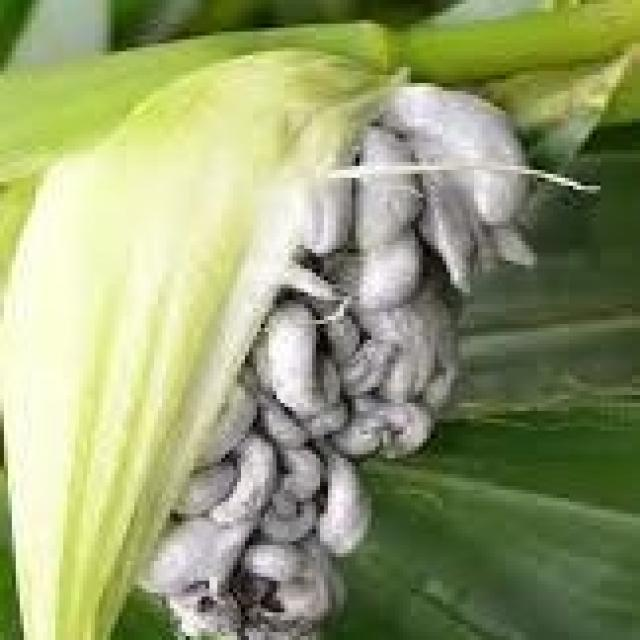Leaf_Scald: (30, 50, 640, 640)
